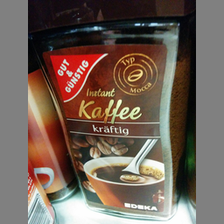coffee: (28, 1, 193, 219)
